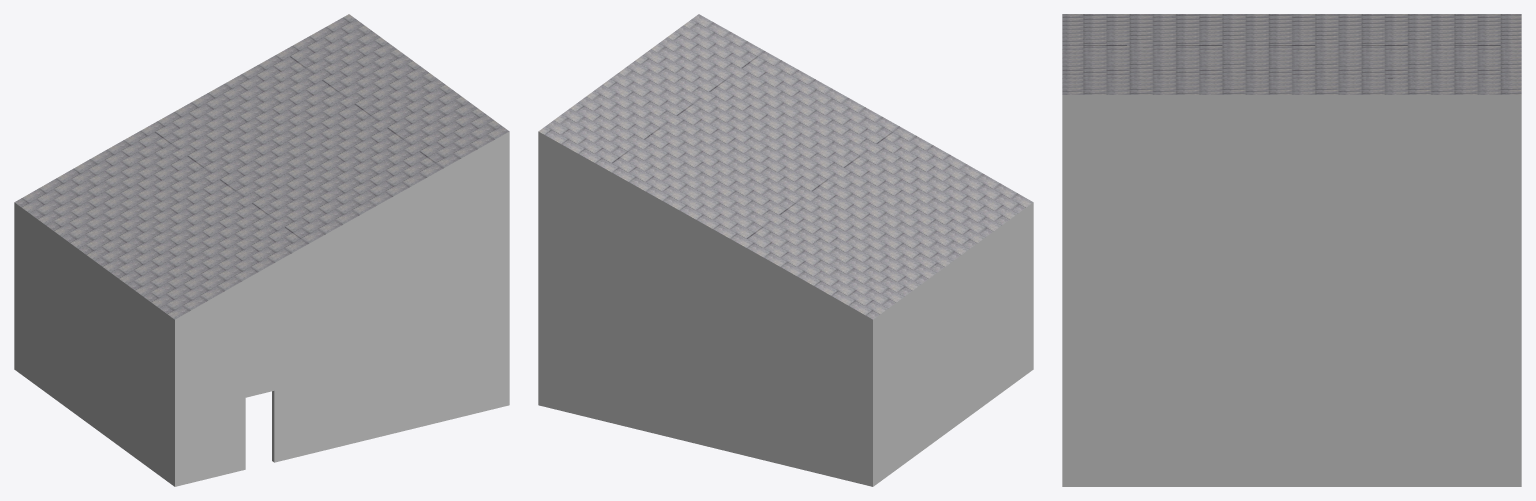
The model's file is galleryblank.glb.
The picture shows the model from 3 angles, left to right: view 1: azimuth 30°, elevation 25°; view 2: azimuth 150°, elevation 25°; view 3: azimuth 270°, elevation 25°; orthographic projection. The views are drawn at different scales.
Visible parts, largest first — view 1: Cube; view 2: Cube; view 3: Cube.
Boxes of the visible parts, x1,y1,x2,y2 form: Cube: [14, 14, 509, 486]; Cube: [538, 14, 1033, 486]; Cube: [1062, 14, 1521, 486].
Size of the model in its own units: 10.19 by 7.97 by 8.46.
Materials: 3 (2 with a texture image).
